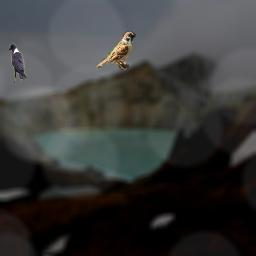Crow: (9, 43, 27, 83)
Sparrow: (96, 31, 136, 70)
